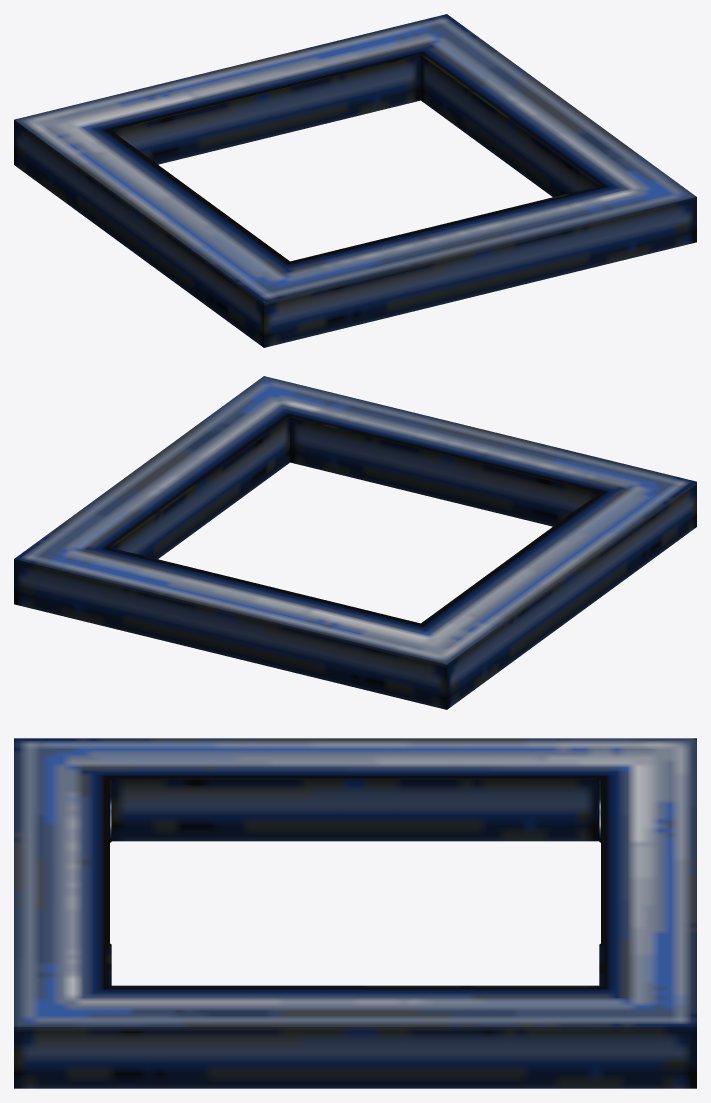
File: frame_square.fbx
3 renders of one model, top to bottom at view 1: azimuth 30°, elevation 25°; view 2: azimuth 150°, elevation 25°; view 3: azimuth 270°, elevation 25°, orthographic. The views are drawn at different scales.
Visible parts, largest first — view 1: Frame; view 2: Frame; view 3: Frame.
Part boxes in pixels (bbox=[...]): Frame: bbox=[14, 14, 696, 347]; Frame: bbox=[14, 376, 696, 709]; Frame: bbox=[14, 738, 696, 1088].
Size of the model in its own units: 100 by 10 by 100.
